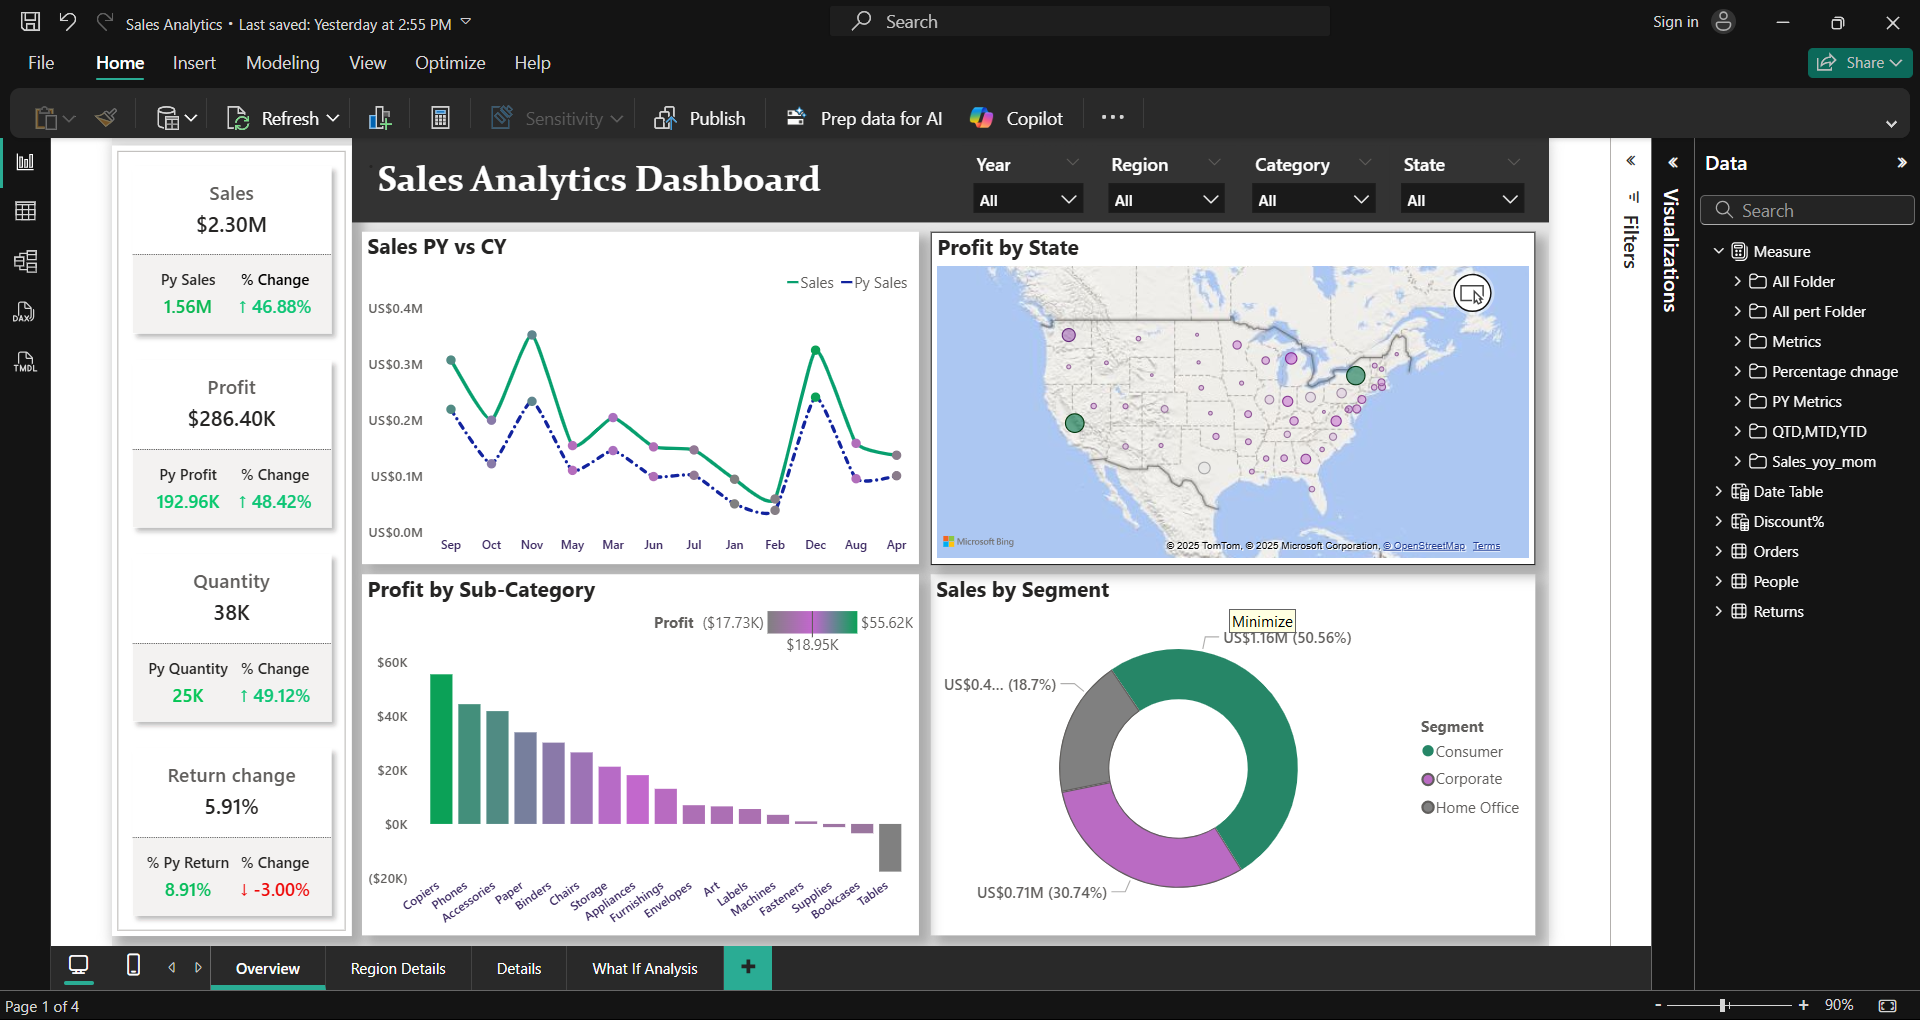

This screenshot's page, from the dashboard's own definition file:
{"tool":"powerbi","page":{"name":"Overview ","canvas":[1280,720],"ordinal":0},"visuals":[{"type":"cardVisual","fields":{"Data":["Measure.Sales","Measure.Profit","Measure.Quantity","Measure.% Return change"]},"box":[0,6.1,213.5,704.3],"z":0},{"type":"lineChart","title":"Sales PY vs CY","fields":{"Y":["Measure.Sales","Measure.Py Sales"],"Category":["Date Table.Month Name"]},"box":[222.1,83.4,495.7,295.7],"z":1000},{"type":"textbox","box":[213.5,0,1066.3,74.8],"z":2000},{"type":"donutChart","title":"Sales by Segment","fields":{"Category":["Orders.Segment"],"Y":["Measure.Sales"]},"box":[728.8,389,538.7,321.5],"z":3000},{"type":"map","fields":{"Category":["Orders.State"],"Size":["Measure.Profit"]},"box":[728.8,83.4,538.7,296.9],"z":4000},{"type":"columnChart","title":"Profit by Sub-Category","fields":{"Category":["Orders.Sub-Category"],"Y":["Measure.Profit"]},"box":[222.1,389,495.7,321.5],"z":5000},{"type":"slicer","fields":{"Values":["Orders.State"]},"box":[1137.4,6.1,130.1,60.1],"z":6000},{"type":"slicer","fields":{"Values":["Orders.Category"]},"box":[1004.9,6.1,130.1,60.1],"z":7000},{"type":"slicer","fields":{"Values":["Orders.Region"]},"box":[877.3,6.1,123.9,60.1],"z":8000},{"type":"slicer","fields":{"Values":["Date Table.Year"]},"box":[757.1,6.1,117.8,60.1],"z":9000}]}

Visuals, with their boxes on the page's 1280x720 design canvas (x1, y1, x2, y2). These are canvas units, not pixel positions in the 1920x1020 screenshot, which may show the page scaled, cropped or inside an application window:
cardVisual - Measure.Sales x Measure.Profit: region(0, 6, 214, 710)
"Sales PY vs CY" lineChart: region(222, 83, 718, 379)
textbox: region(214, 0, 1280, 75)
"Sales by Segment" donutChart: region(729, 389, 1268, 710)
map - Orders.State x Measure.Profit: region(729, 83, 1268, 380)
"Profit by Sub-Category" columnChart: region(222, 389, 718, 710)
slicer - Orders.State: region(1137, 6, 1268, 66)
slicer - Orders.Category: region(1005, 6, 1135, 66)
slicer - Orders.Region: region(877, 6, 1001, 66)
slicer - Date Table.Year: region(757, 6, 875, 66)
